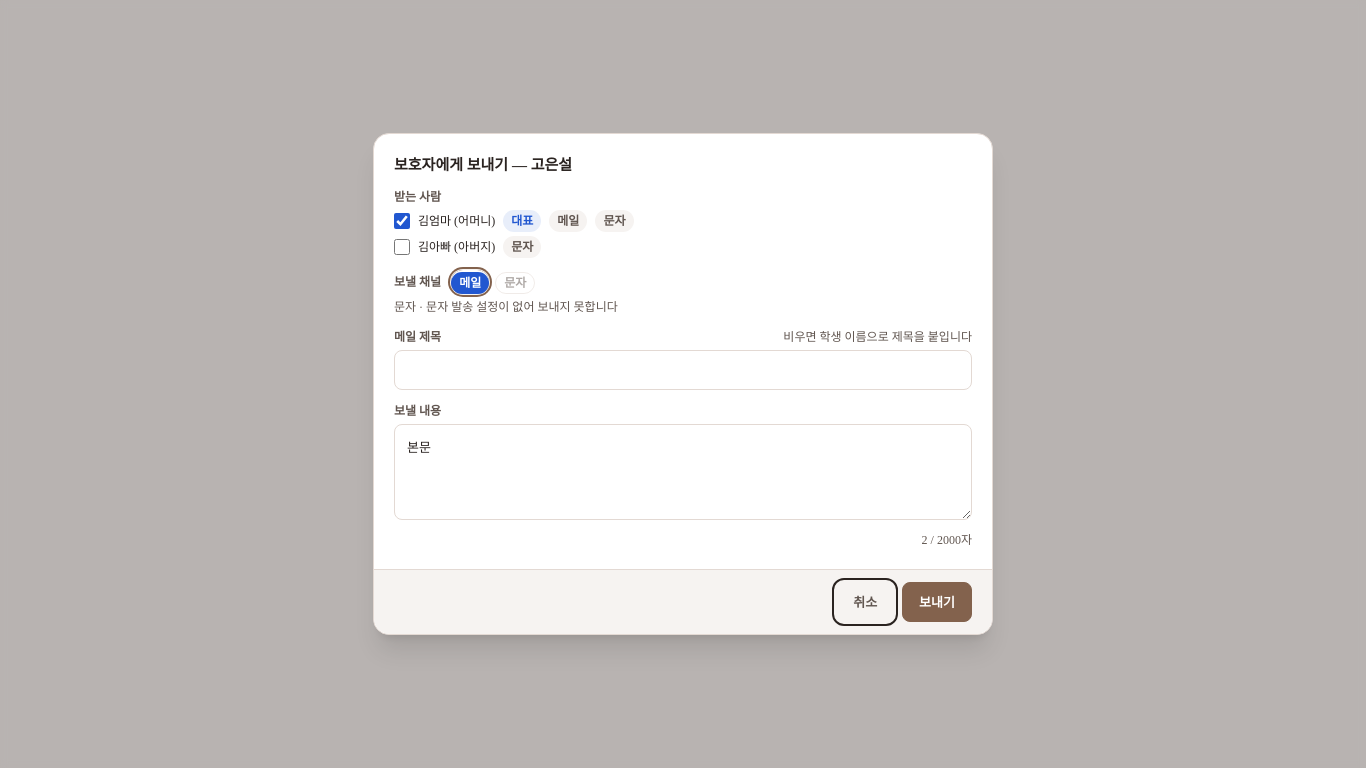
Test case: 같은 「보내기」의 재시도는 같은 요청 키로 가고, 받는 사람을 바꾸면 새 키다
Click the button "보내기". click: (937, 602)
box: left=902, top=582, right=972, bottom=622
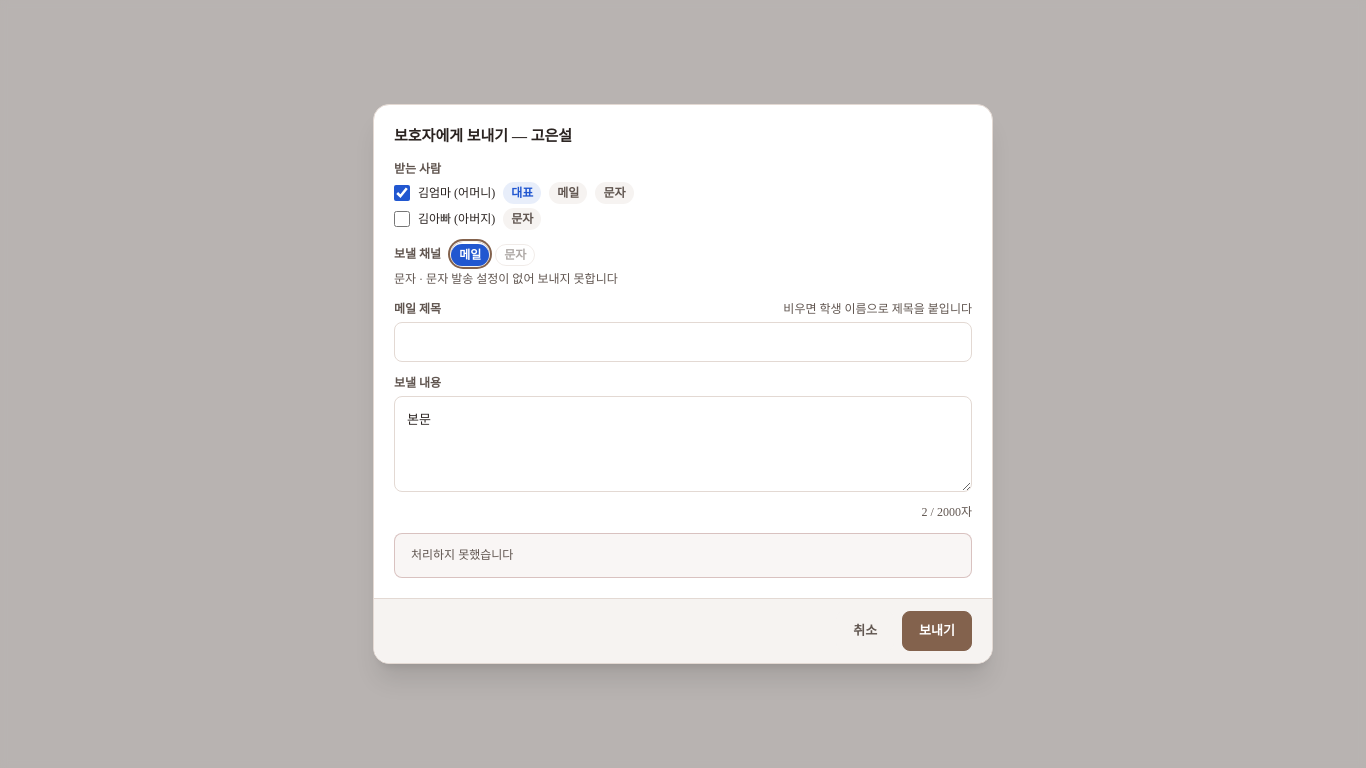
Check: the message "처리하지 못했습니다" is shown, box left=411, top=548, right=513, bottom=562
Click the button "보내기". click: (937, 631)
box: left=902, top=611, right=972, bottom=651
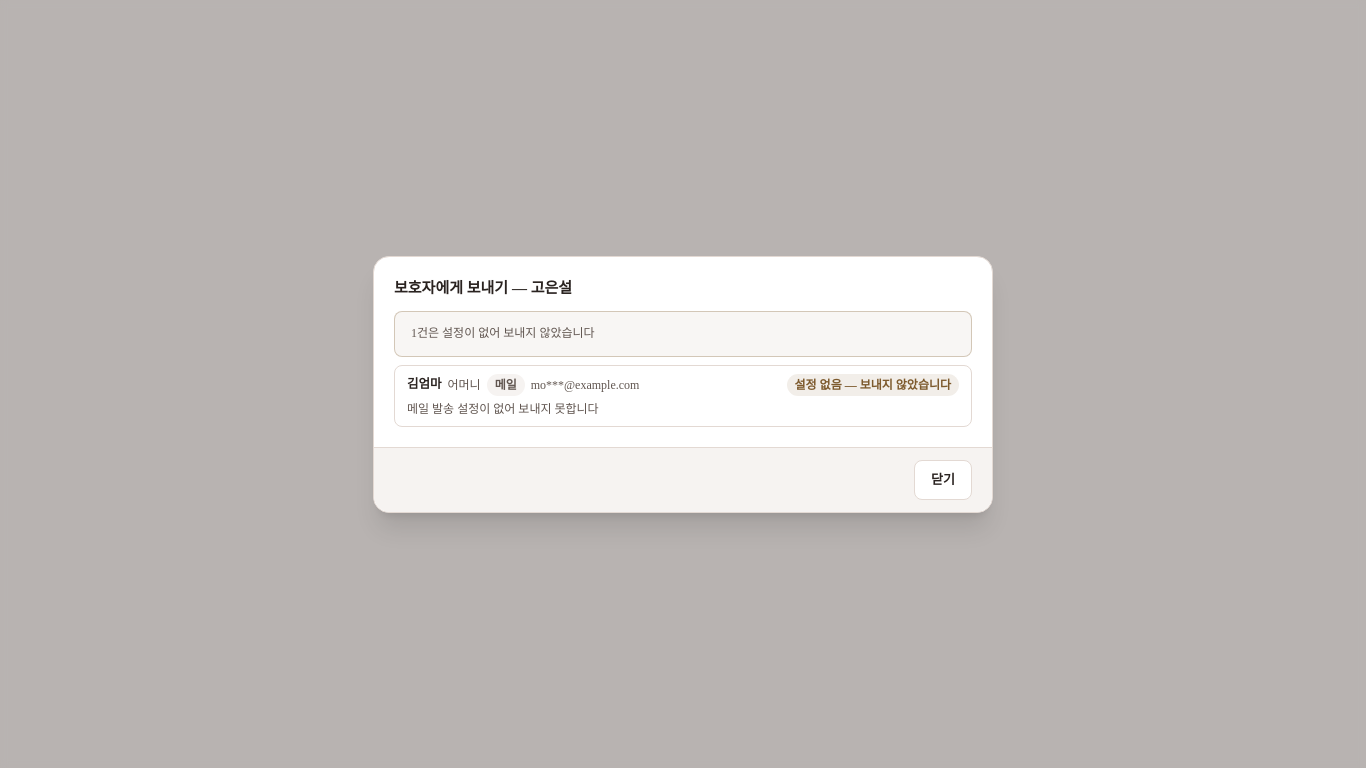
Check: the element named "보낸 결과" is shown, box left=394, top=311, right=972, bottom=426
